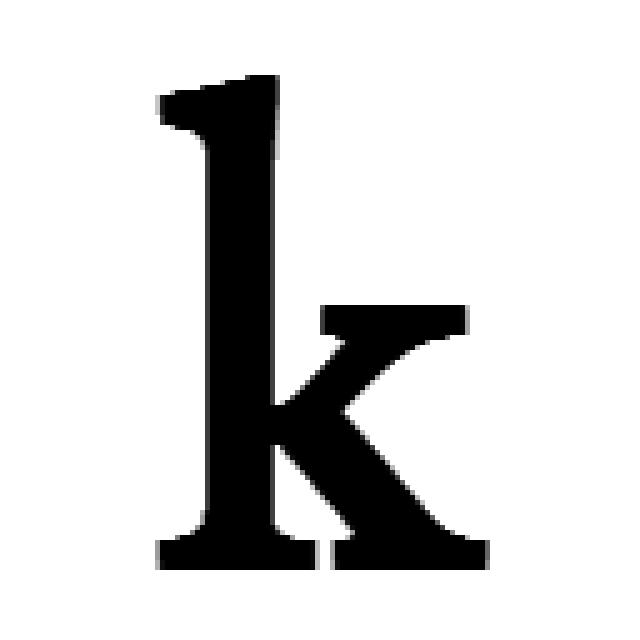K: (130, 77, 523, 572)
